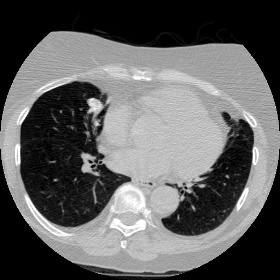PN: (88, 97, 102, 111)
